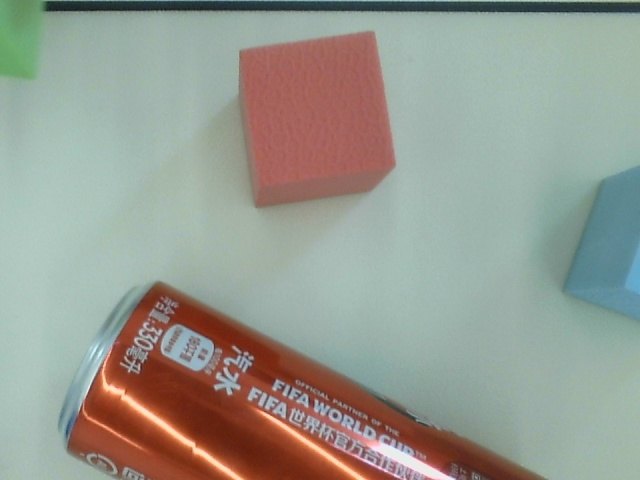bluecube: (560, 160, 640, 323)
cola: (50, 276, 567, 480)
greencube: (1, 1, 53, 96)
redcube: (228, 28, 401, 211)
